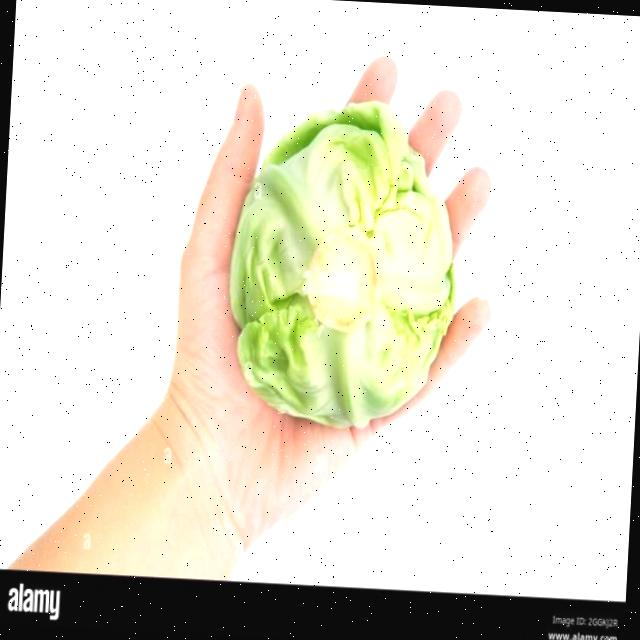cabbage: (222, 93, 454, 438)
